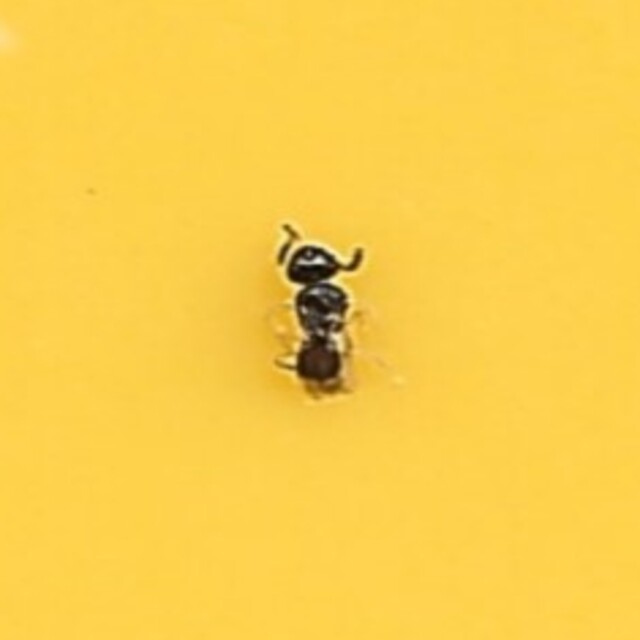Hymenoptera: (272, 232, 368, 408)
